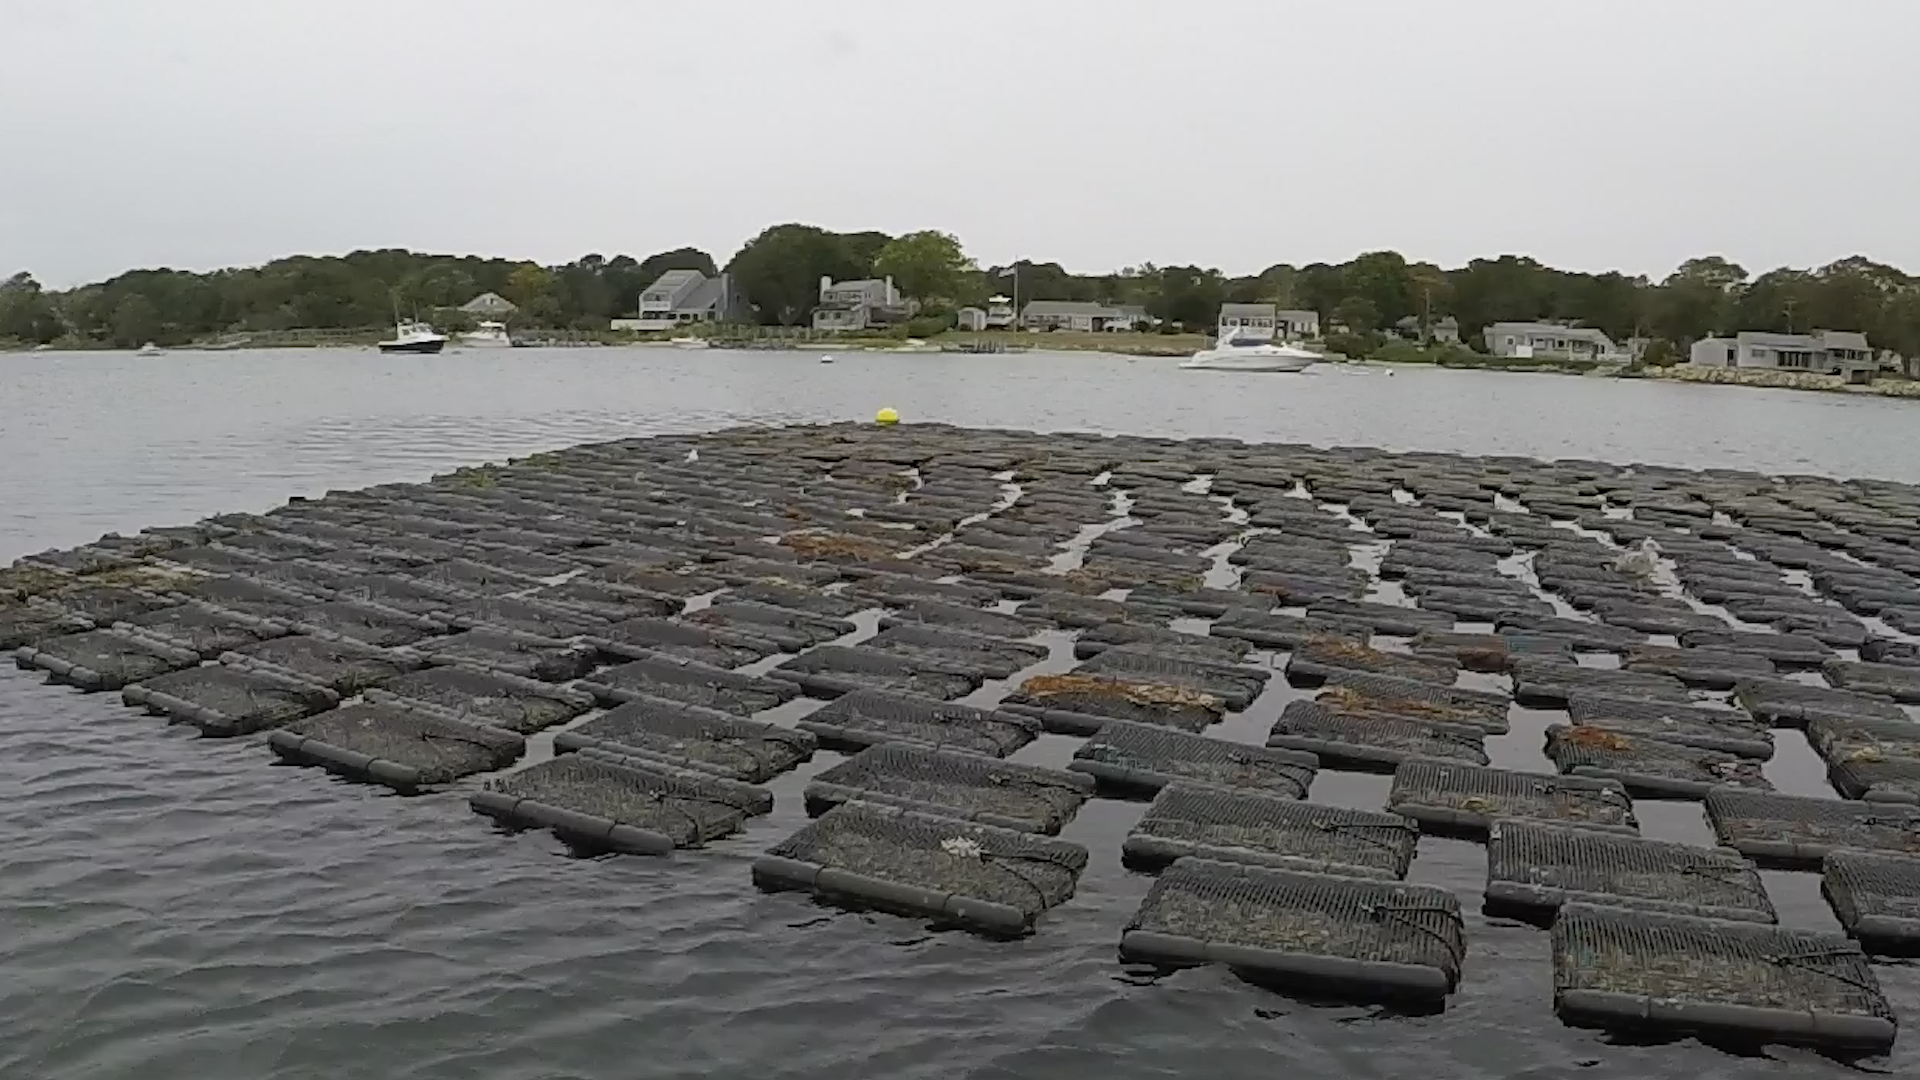bag: (754, 806, 1089, 938), (477, 757, 783, 856), (262, 705, 527, 786)
